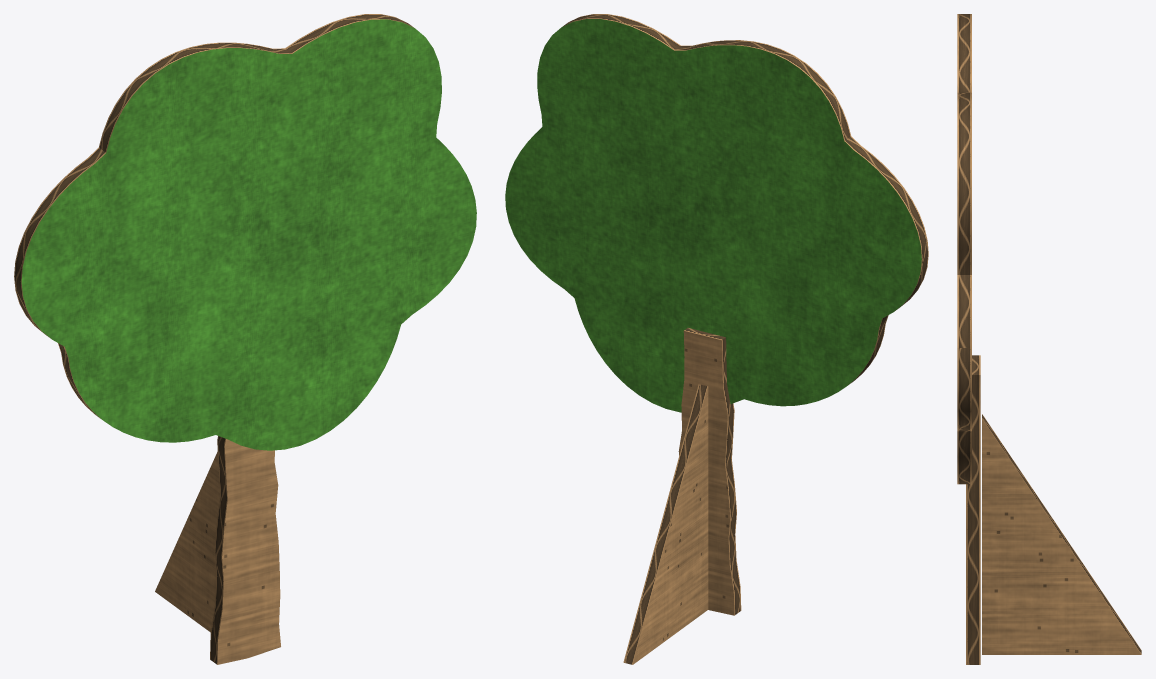
The model's file is tree_cutout_02.gltf.
The picture shows the model from 3 angles, left to right: view 1: azimuth 30°, elevation 25°; view 2: azimuth 150°, elevation 25°; view 3: azimuth 270°, elevation 25°; orthographic projection. The views are drawn at different scales.
Parts seen in each view (by area): view 1: tree_cutout_02; view 2: tree_cutout_02; view 3: tree_cutout_02.
Boxes of the visible parts, x1,y1,x2,y2 form: tree_cutout_02: (14,14,476,664); tree_cutout_02: (505,14,928,664); tree_cutout_02: (957,14,1141,664).
Bounding box in the file's own units: 1.76 × 2.29 × 0.635.
3 materials, 3 textured.
